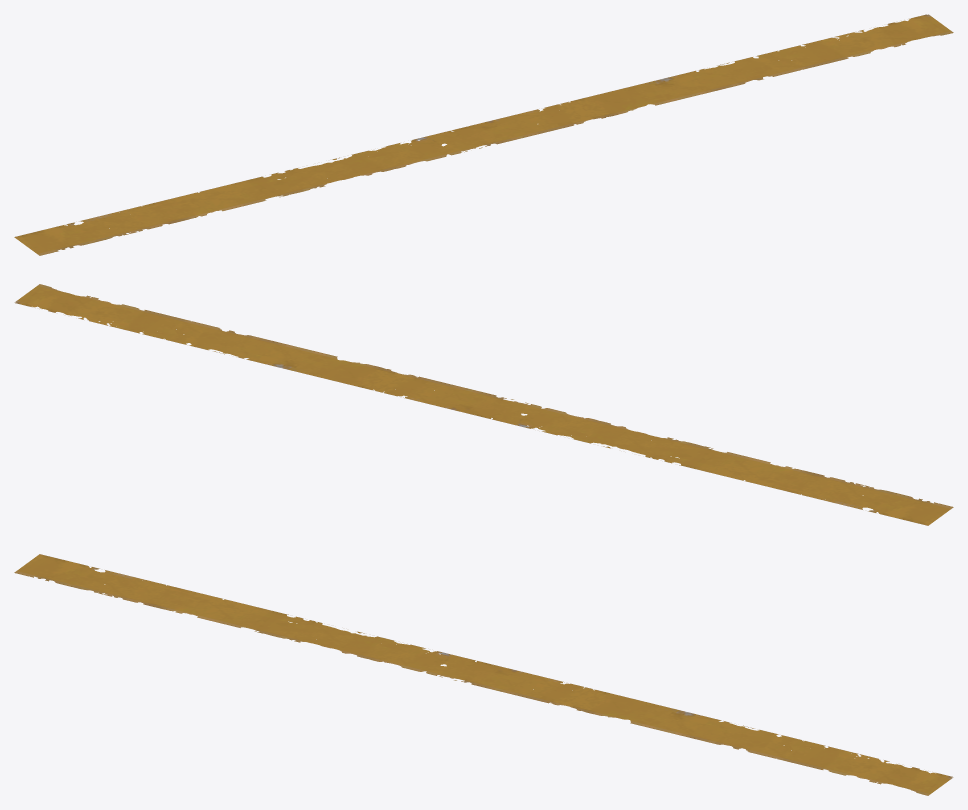
File: SM_Stripe_Floor_01g.glb
3 views of the same model, one above another, from view 1: azimuth 30°, elevation 25°; view 2: azimuth 150°, elevation 25°; view 3: azimuth 330°, elevation 25° (orthographic).
Parts seen in each view (by area): view 1: SM_Stripe_Floor_01g; view 2: SM_Stripe_Floor_01g; view 3: SM_Stripe_Floor_01g.
Part boxes in pixels (<box>): SM_Stripe_Floor_01g: <box>14,14,953,255</box>; SM_Stripe_Floor_01g: <box>14,284,953,525</box>; SM_Stripe_Floor_01g: <box>14,554,953,795</box>.
Size of the model in its own units: 2 by 9.92e-07 by 0.0976.
Materials: 1 (1 with a texture image).
